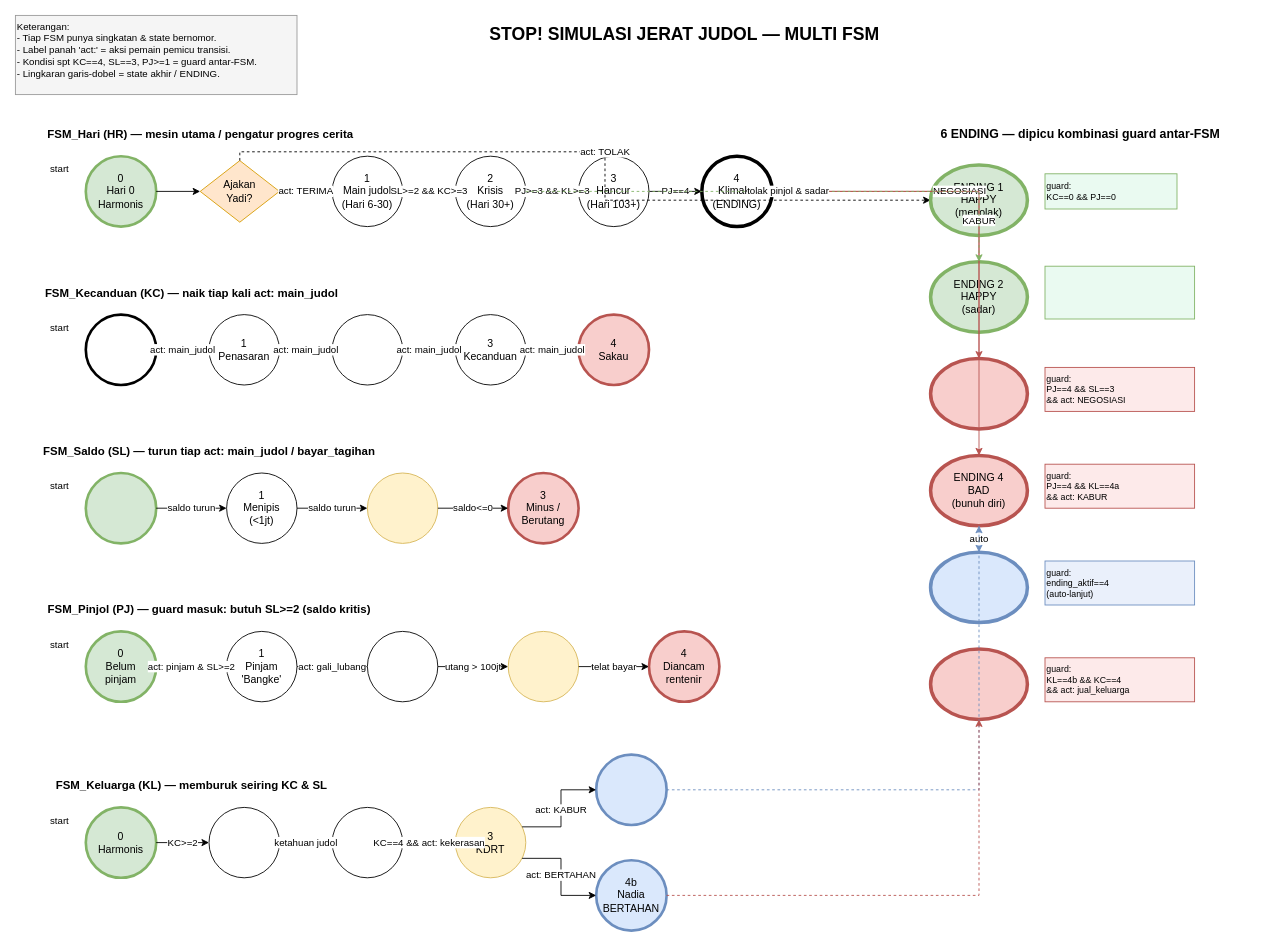
Image size: 1263x947. Some labels were removed from this diagram. The box of each missing label's shape, as (x1, y1, x2, y2) in pixels:
0 Aman (>2jt): (84, 471, 157, 544)
0 Iseng: (84, 313, 157, 386)
1 Curiga: (208, 807, 279, 878)
2 Gali lubang 'Bank Miskin': (367, 631, 438, 702)
2 Kebiasaan: (331, 314, 403, 385)
2 Konflik: (331, 807, 403, 878)
2 Kritis (<100rb): (367, 472, 438, 543)
3 Ditagih rentenir: (507, 631, 579, 702)
4a Nadia KABUR: (594, 753, 667, 826)
ENDING 3 BAD (jual ginjal): (928, 356, 1029, 430)
ENDING 5 (otomatis stlh E4): (928, 550, 1029, 624)
ENDING 6 BAD (Nadia melawan): (928, 647, 1029, 721)
guard: PJ==0 && KC>=2 && act: tolak_pinjol && act: minta_maaf: (1044, 265, 1195, 319)
